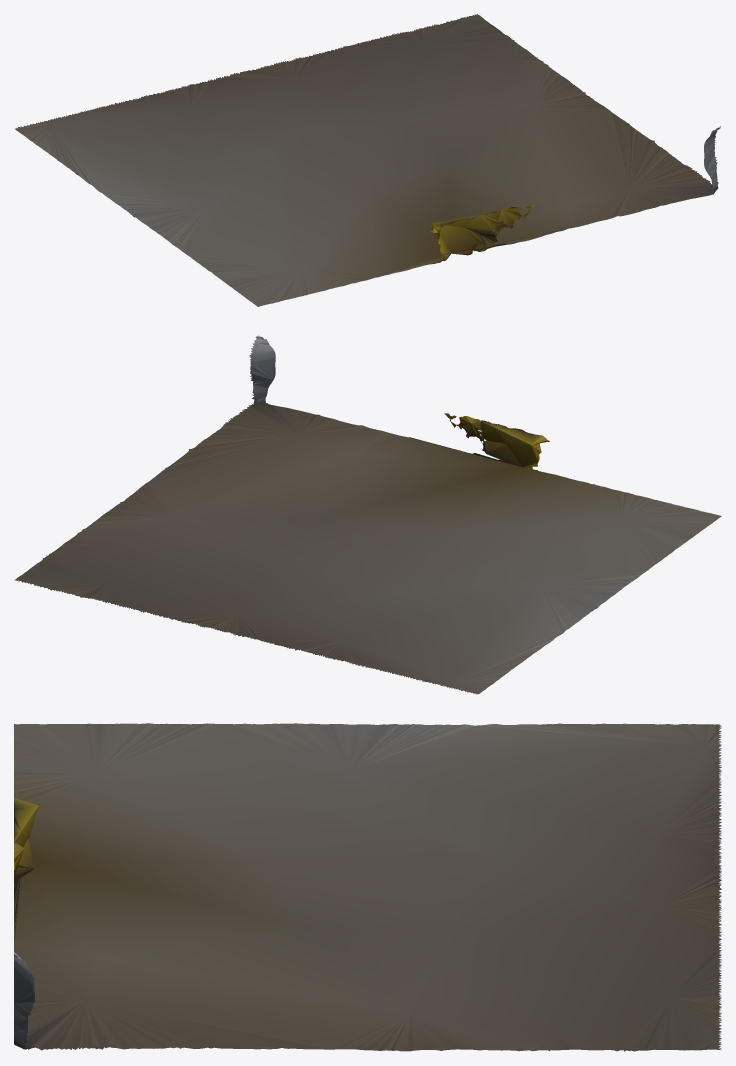
Rendered from coarse.glb.
3 views of the same model, one above another, from view 1: azimuth 30°, elevation 25°; view 2: azimuth 150°, elevation 25°; view 3: azimuth 270°, elevation 25° (orthographic). The views are drawn at different scales.
Size of the model in its own units: 2.04 by 0.2867 by 1.85.
